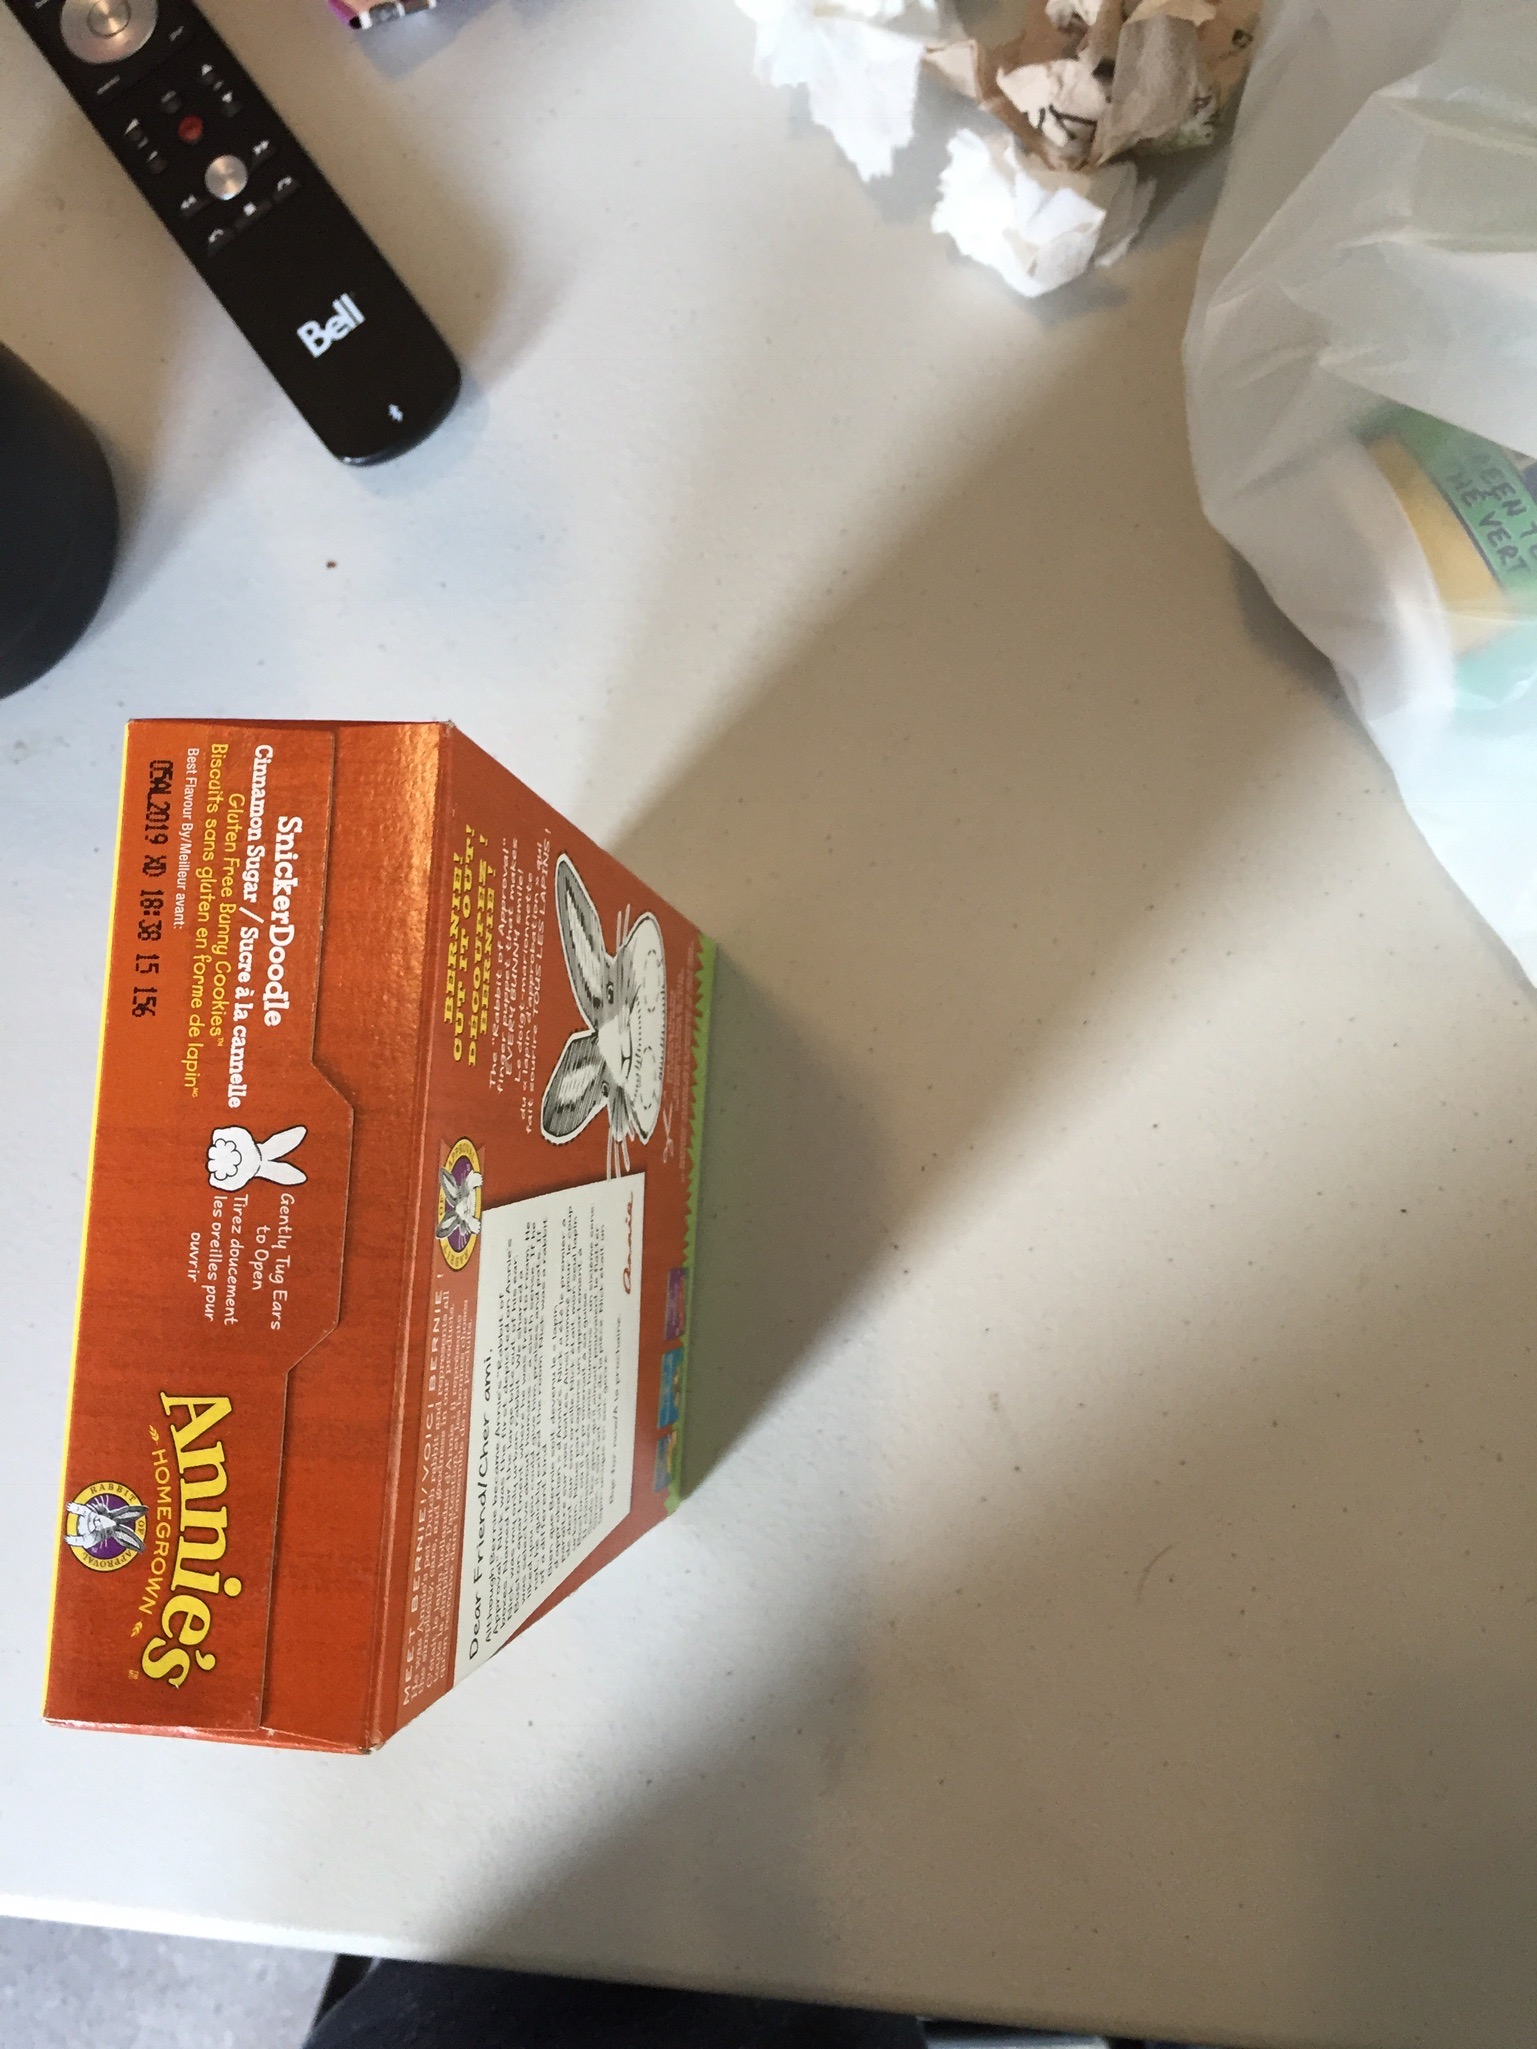annies_snickerdoodle_cinnamon_sugar: (128, 730, 454, 1687)
